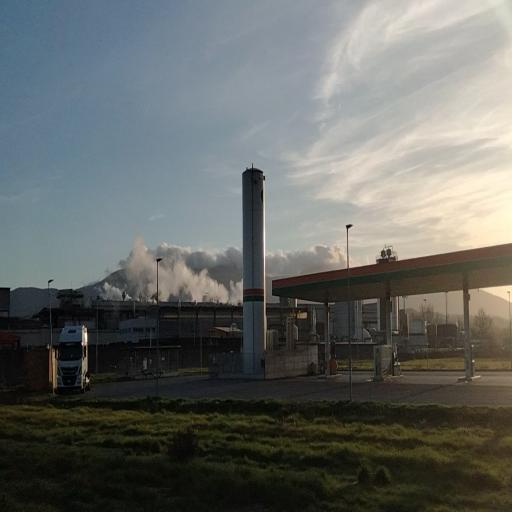leakage: (93, 227, 246, 309)
